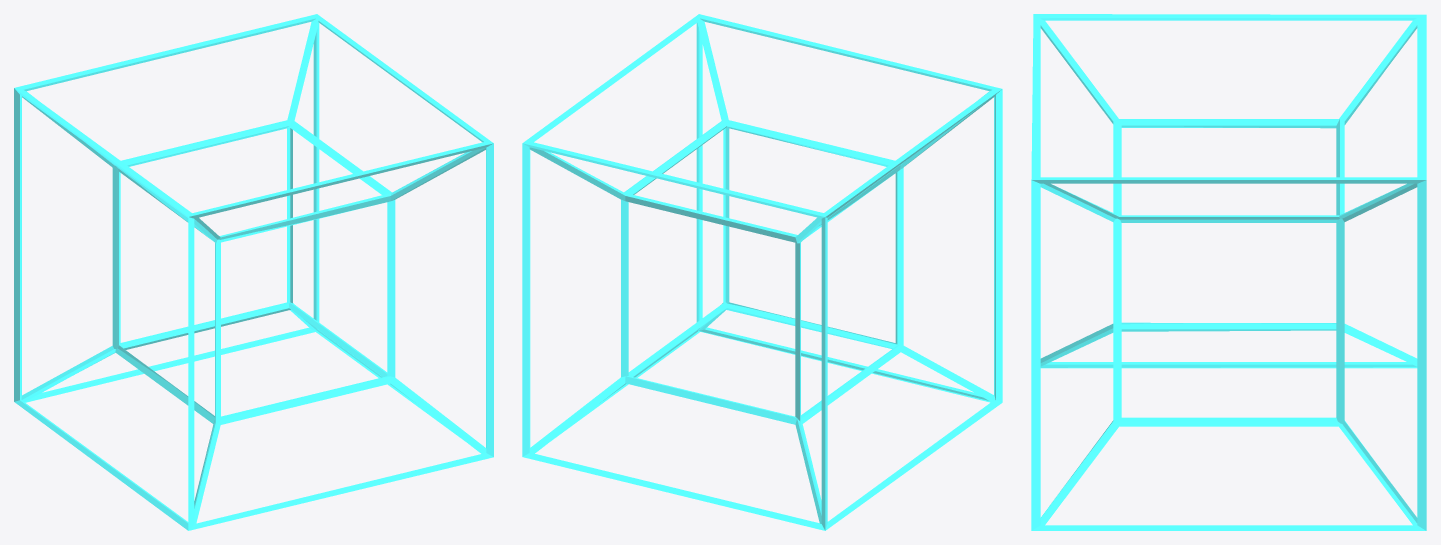
The model's file is placeholder-furni.glb.
The picture shows the model from 3 angles, left to right: view 1: azimuth 30°, elevation 25°; view 2: azimuth 150°, elevation 25°; view 3: azimuth 270°, elevation 25°; orthographic projection. The views are drawn at different scales.
Visible parts, largest first — view 1: Cube; view 2: Cube; view 3: Cube.
Boxes of the visible parts, x1,y1,x2,y2 form: Cube: (14, 14, 493, 530); Cube: (522, 14, 1002, 530); Cube: (1031, 14, 1426, 530).
Bounding box in the file's own units: 0.8548 × 0.842 × 0.8591.
